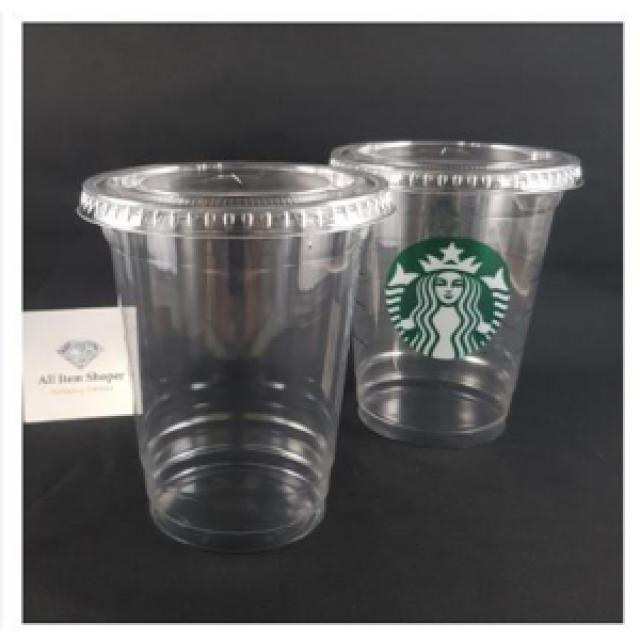plastic cup: (72, 158, 399, 559), (324, 134, 587, 457)
